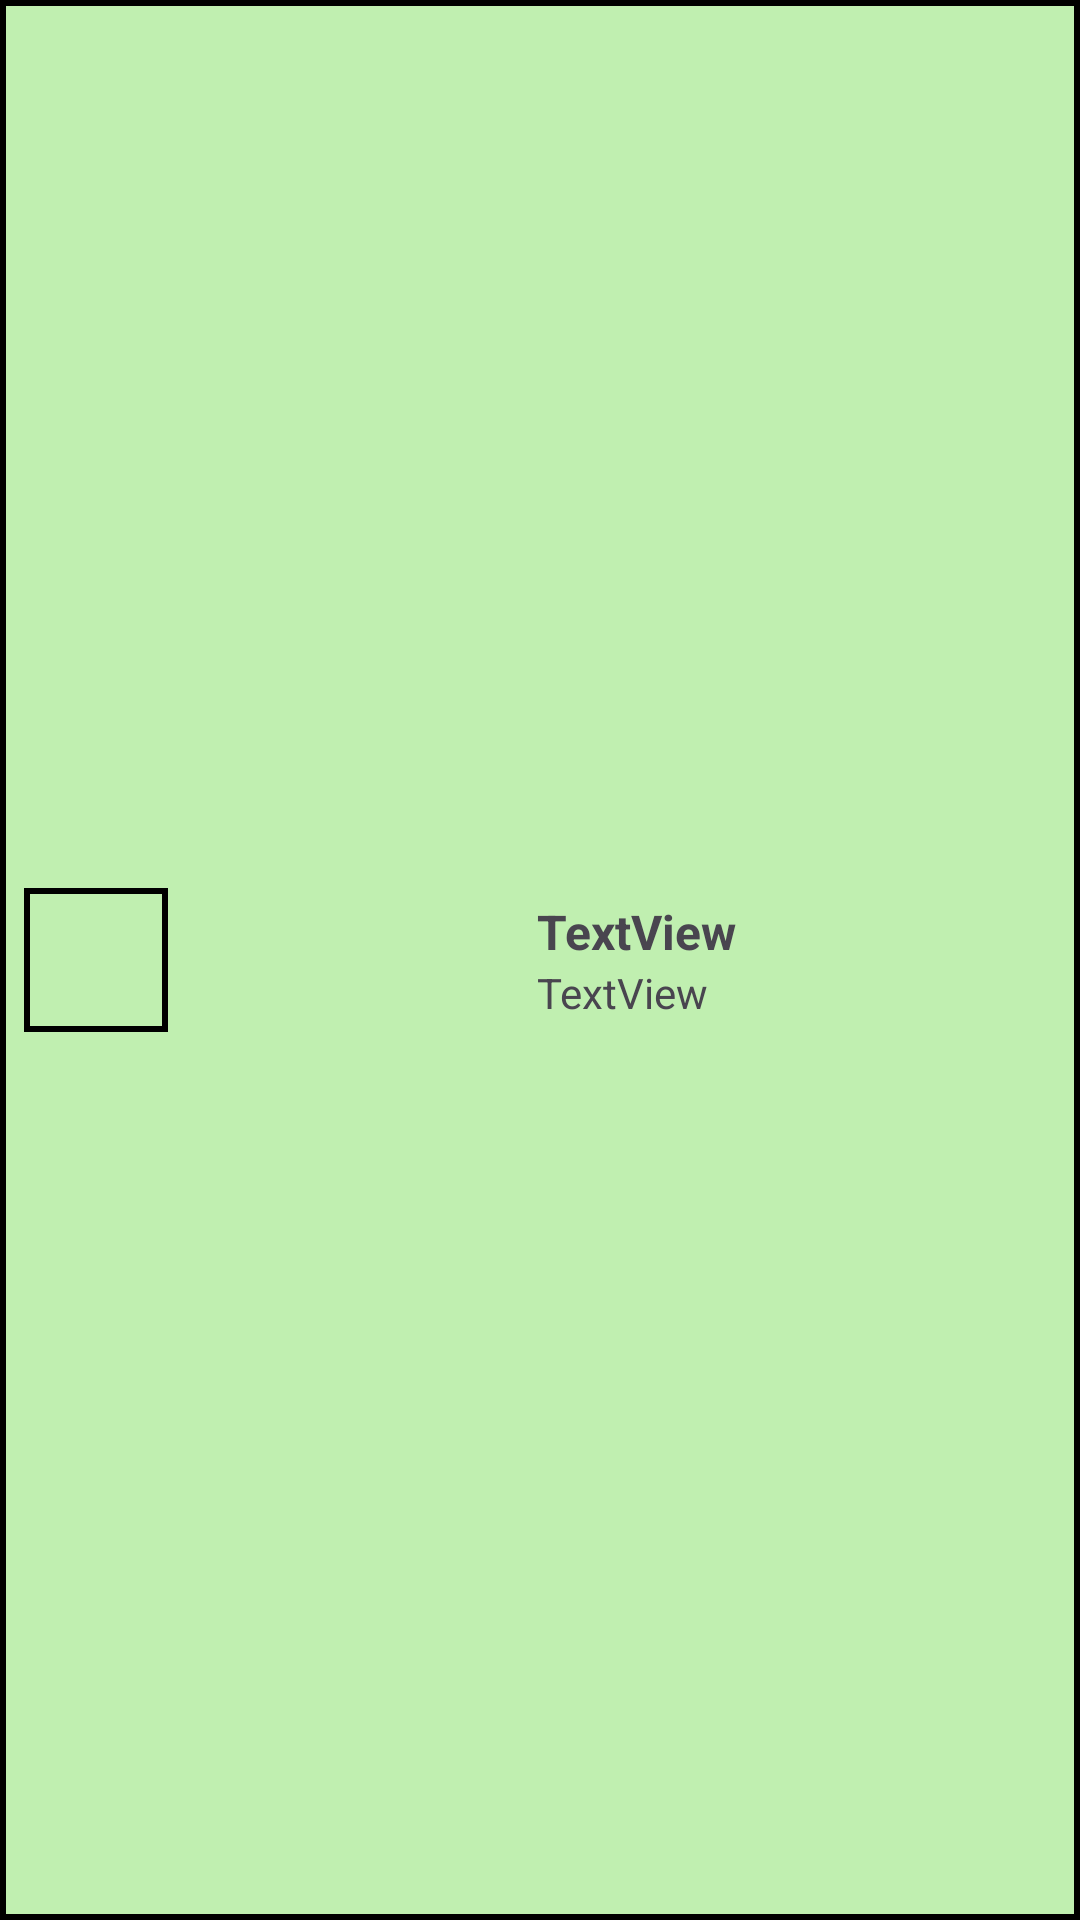

Where icons sit on this 1080px×1920px app screen, as {"left": x1, "top": y1, "right": x2, "bottom": y2}:
border: {"left": 24, "top": 888, "right": 168, "bottom": 1032}
